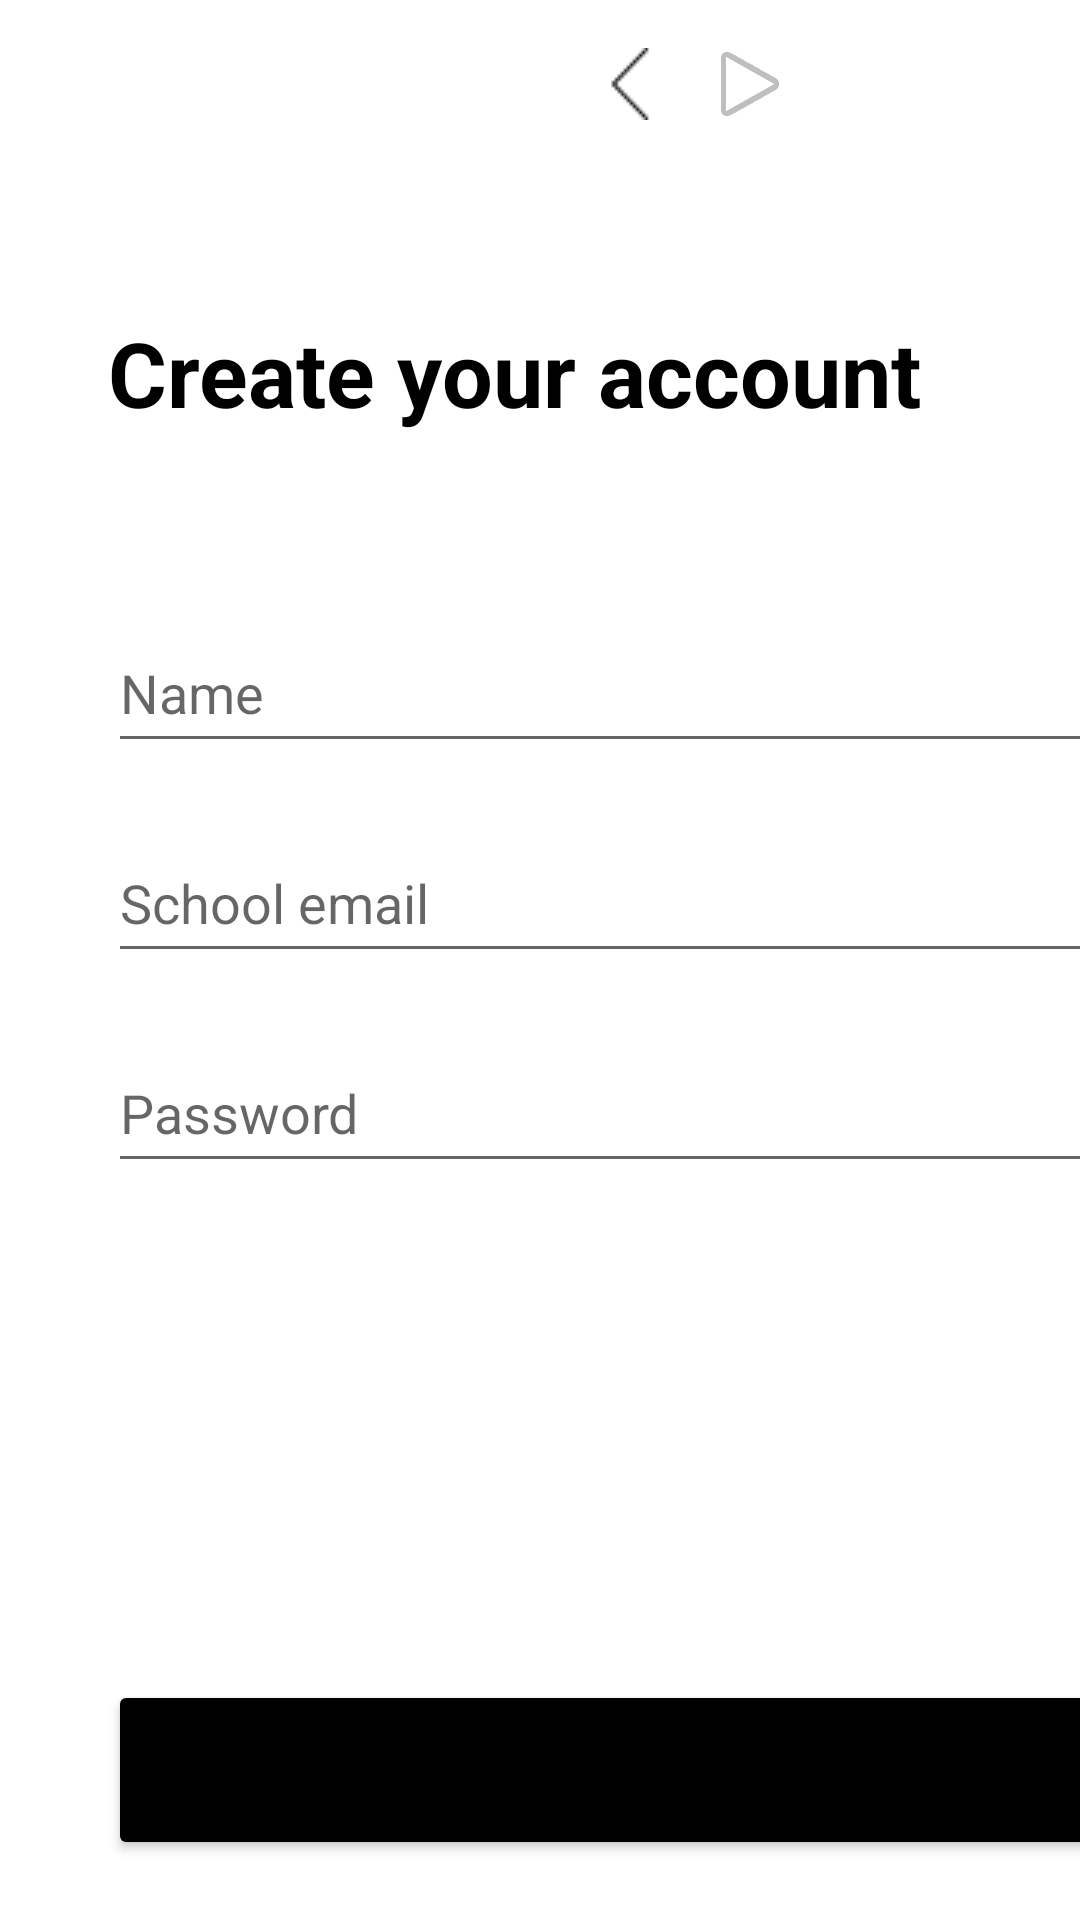

Where to tap for icons on this 1080 x 1920 app screen, as point (x, y):
play: point (750, 84)
